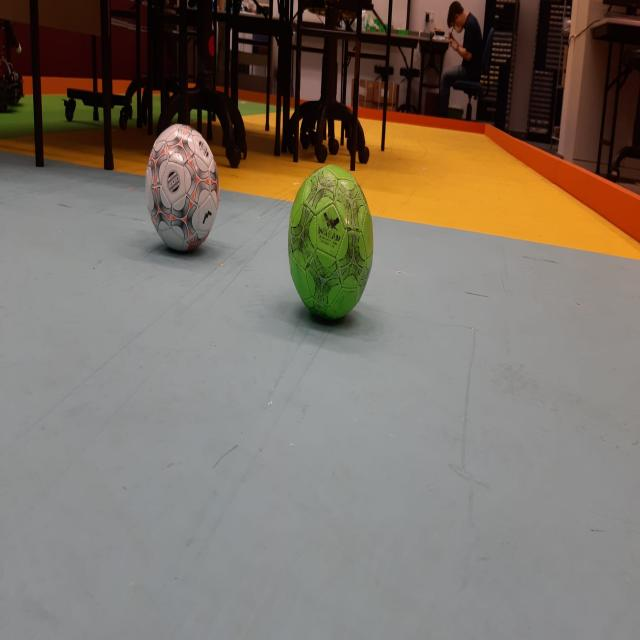ball: (288, 165, 373, 324), (147, 121, 220, 257)
